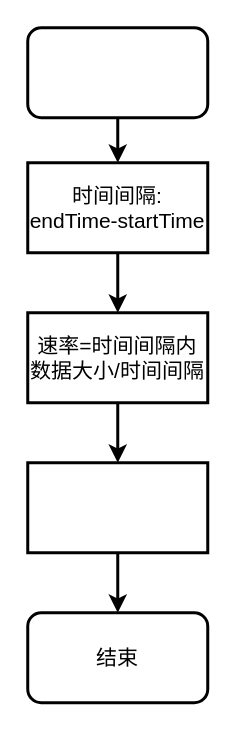
Some shapes in this 234 by 729 pixel diagram are drawn without their labels. The centre of each missing label's shape, as x and y in pixels:
开始: (x=117, y=72)
输出瞬时速率 emit sendV: (x=117, y=507)
